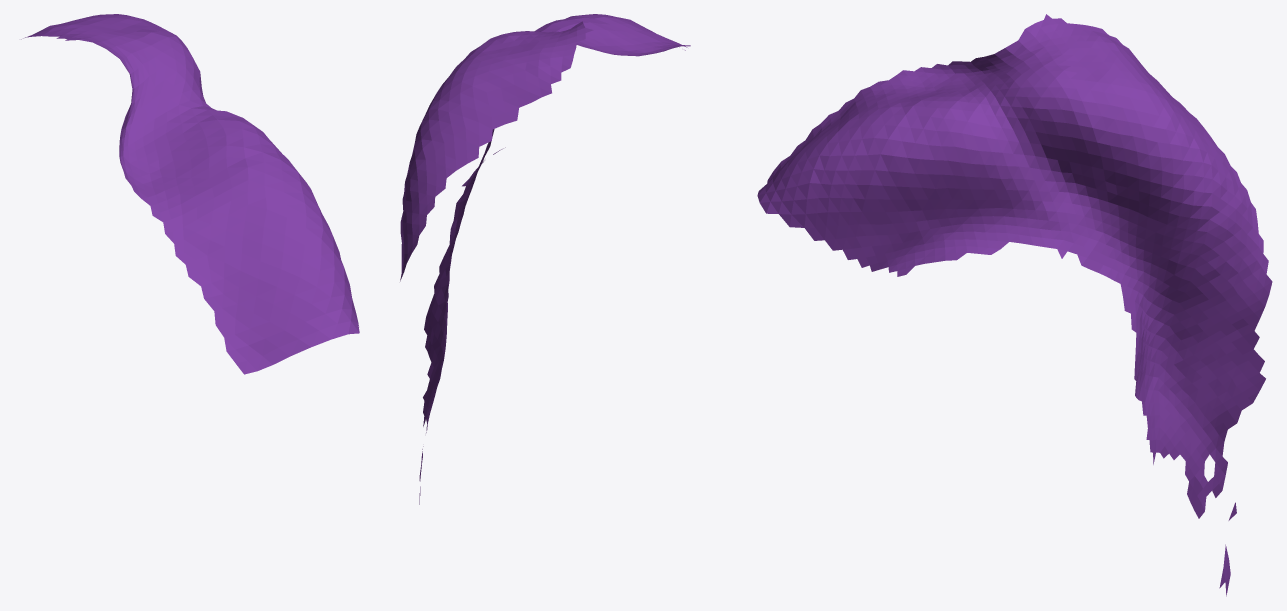
The model's file is lh_rostralanteriorcingulate.glb.
3 views of the same model, side by side, from view 1: azimuth 30°, elevation 25°; view 2: azimuth 150°, elevation 25°; view 3: azimuth 270°, elevation 25° (orthographic). The views are drawn at different scales.
Visible parts, largest first — view 1: world; view 2: world; view 3: world.
Boxes of the visible parts, left/top/right/bottom form: world: left=21, top=14, right=359, bottom=374; world: left=400, top=14, right=690, bottom=504; world: left=757, top=14, right=1272, bottom=596.
Bounding box in the file's own units: 10.74 × 37.5 × 32.82.
